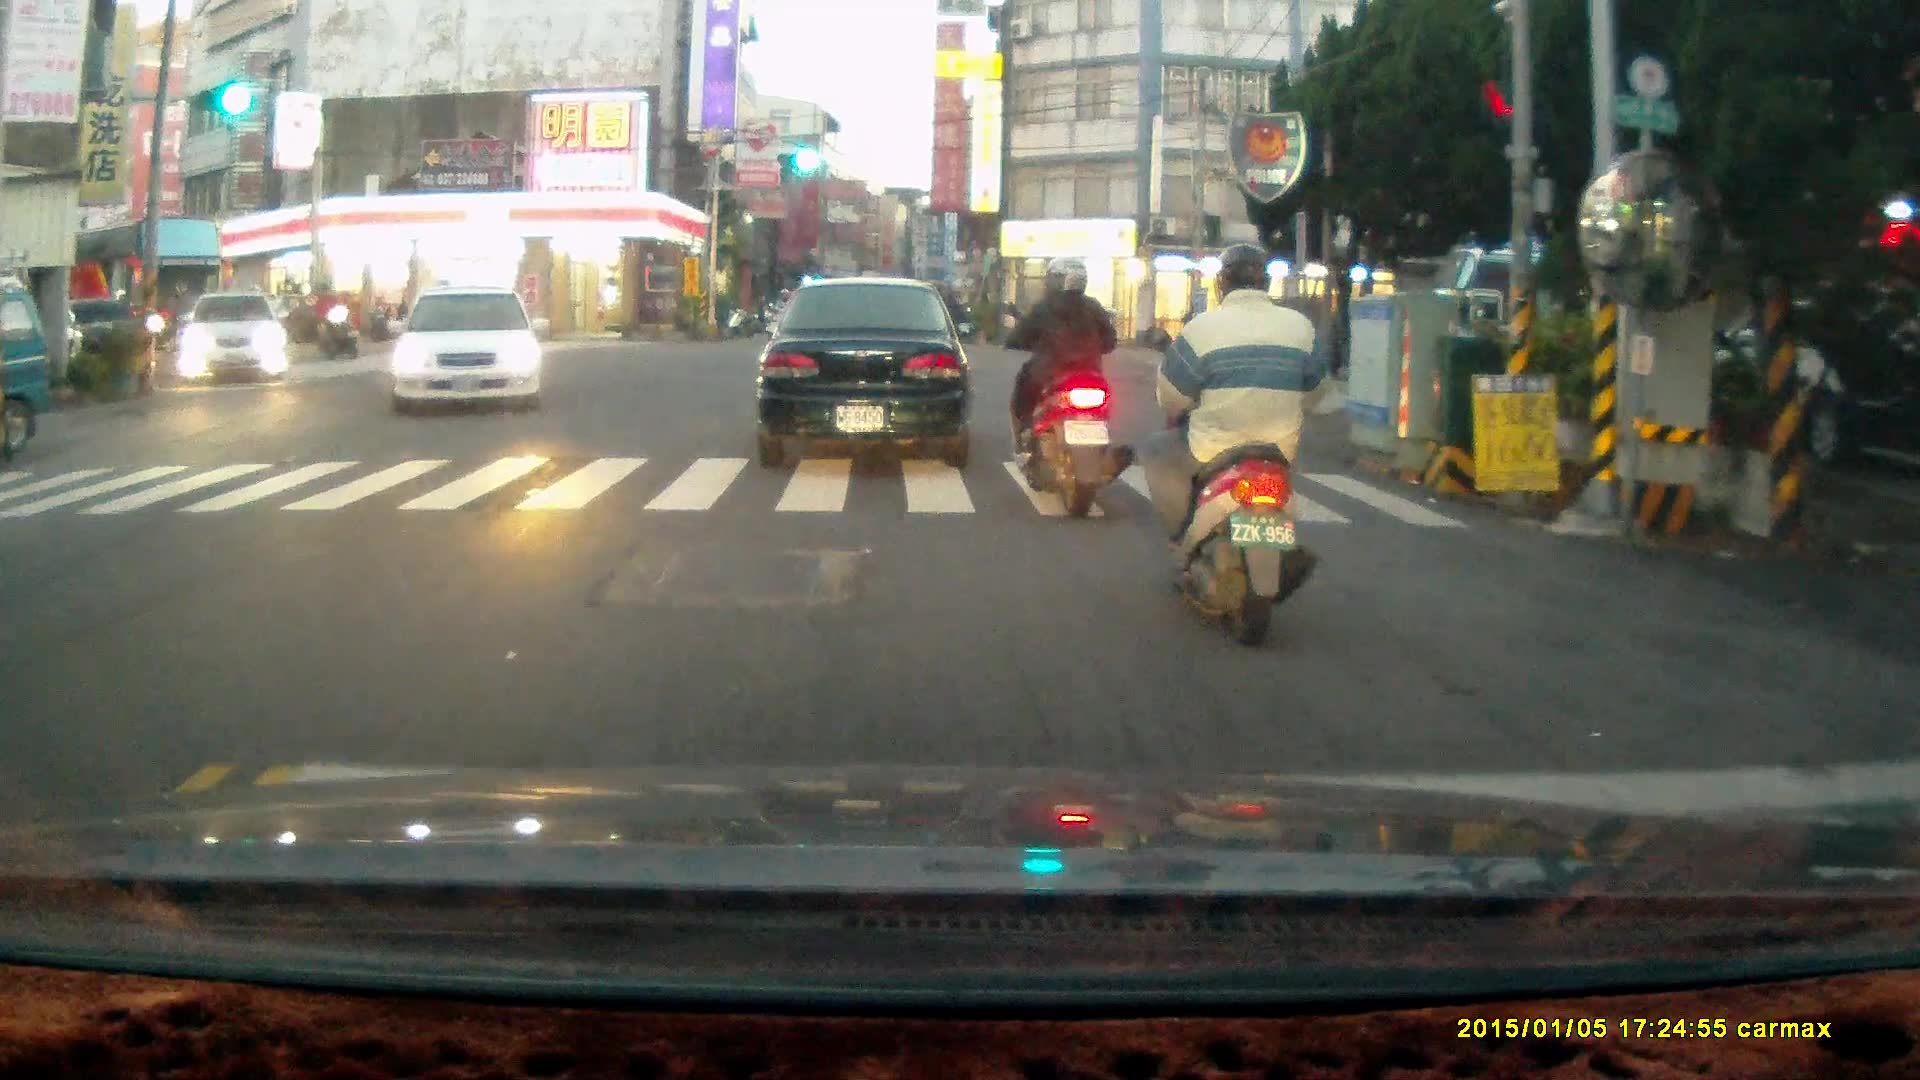rider: (1142, 243, 1322, 644), (995, 257, 1131, 521), (307, 280, 359, 361)
vehicle: (1635, 294, 1920, 474), (759, 275, 974, 472), (34, 213, 233, 354), (390, 288, 547, 415), (181, 290, 294, 389), (1, 285, 60, 460)
